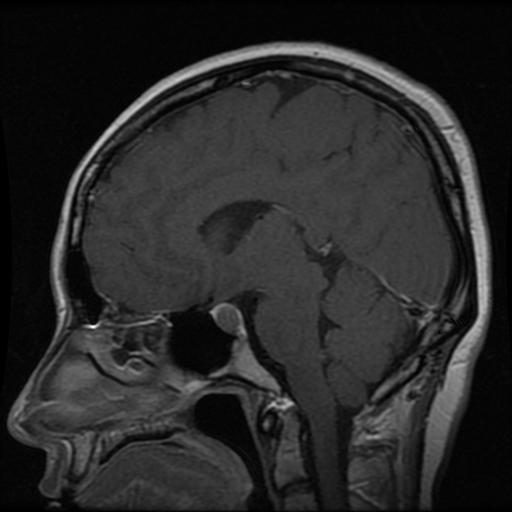Pituirity_tumour: (211, 303, 239, 330)
